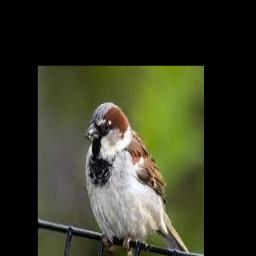Sparrow: (85, 102, 196, 256)
